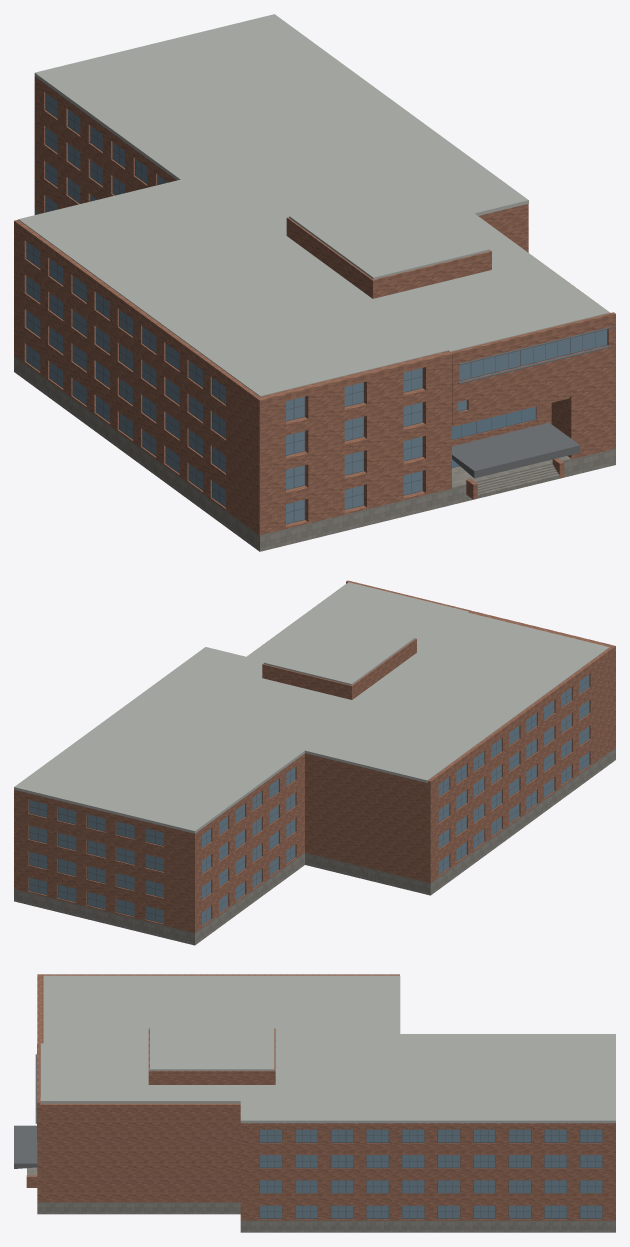
3 renders of one model, top to bottom at view 1: azimuth 30°, elevation 25°; view 2: azimuth 150°, elevation 25°; view 3: azimuth 270°, elevation 25°, orthographic. The views are drawn at different scales.
Parts seen in each view (by area): view 1: library__roof_concrete, library__brick_warm, library__glass_clear, library__granite_base, library__canopy_dark, library__frame_dark, library__glass_loggia; view 2: library__roof_concrete, library__brick_warm, library__glass_clear, library__granite_base, library__frame_dark; view 3: library__roof_concrete, library__brick_warm, library__glass_clear, library__granite_base, library__frame_dark, library__canopy_dark.
Part boxes in pixels (x1,y1,x2,y2): library__roof_concrete: [18, 14, 609, 396]; library__brick_warm: [14, 76, 615, 535]; library__glass_clear: [26, 93, 606, 523]; library__granite_base: [14, 208, 615, 551]; library__canopy_dark: [452, 327, 610, 478]; library__frame_dark: [26, 93, 607, 524]; library__glass_loggia: [452, 407, 535, 467]; library__roof_concrete: [14, 582, 609, 833]; library__brick_warm: [14, 580, 615, 932]; library__glass_clear: [29, 674, 589, 924]; library__granite_base: [14, 748, 615, 945]; library__frame_dark: [28, 680, 588, 925]; library__roof_concrete: [40, 975, 615, 1123]; library__brick_warm: [26, 974, 615, 1220]; library__glass_clear: [260, 1129, 602, 1218]; library__granite_base: [27, 1167, 615, 1232]; library__frame_dark: [259, 1129, 602, 1218]; library__canopy_dark: [14, 1054, 37, 1168].
Bounding box in the file's own units: 54.72 × 22.05 × 94.76.
7 materials, 2 textured.
